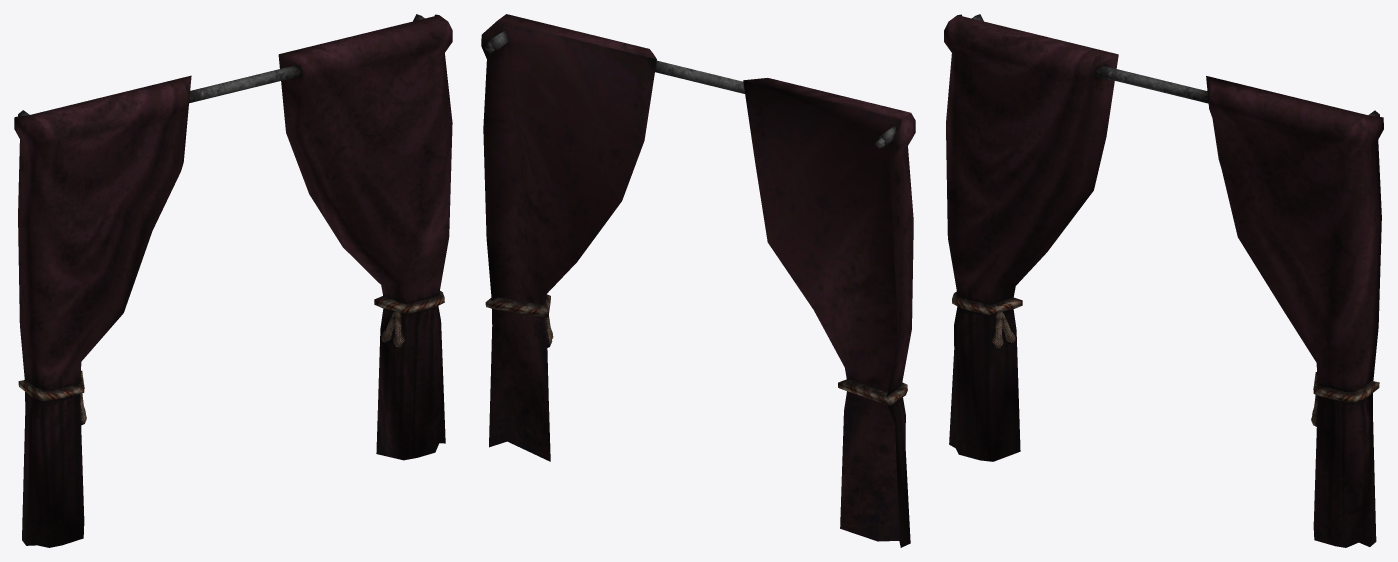
The model's file is 42_curtain01_open.dae.
3 views of the same model, side by side, from view 1: azimuth 30°, elevation 25°; view 2: azimuth 150°, elevation 25°; view 3: azimuth 330°, elevation 25° (orthographic).
Parts seen in each view (by area): view 1: curtain01_open; view 2: curtain01_open; view 3: curtain01_open.
Boxes of the visible parts, bbox=[...] form: curtain01_open: bbox=[14, 14, 452, 547]; curtain01_open: bbox=[481, 14, 915, 547]; curtain01_open: bbox=[944, 14, 1383, 547].
Bounding box in the file's own units: 3.75 × 3.68 × 0.4366.
